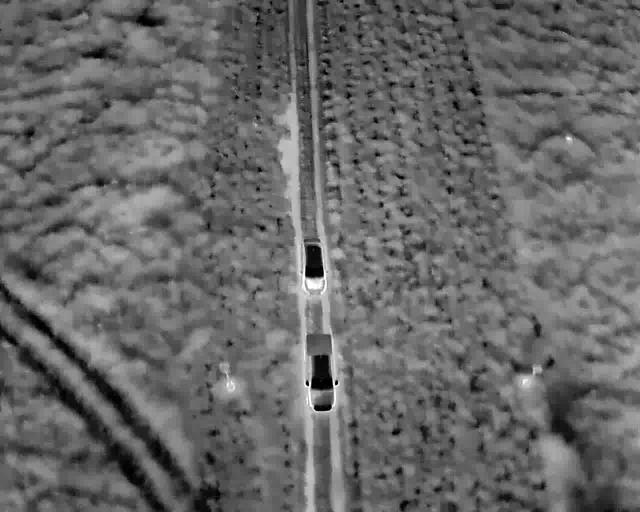car: (303, 330, 339, 412), (297, 236, 329, 296)
